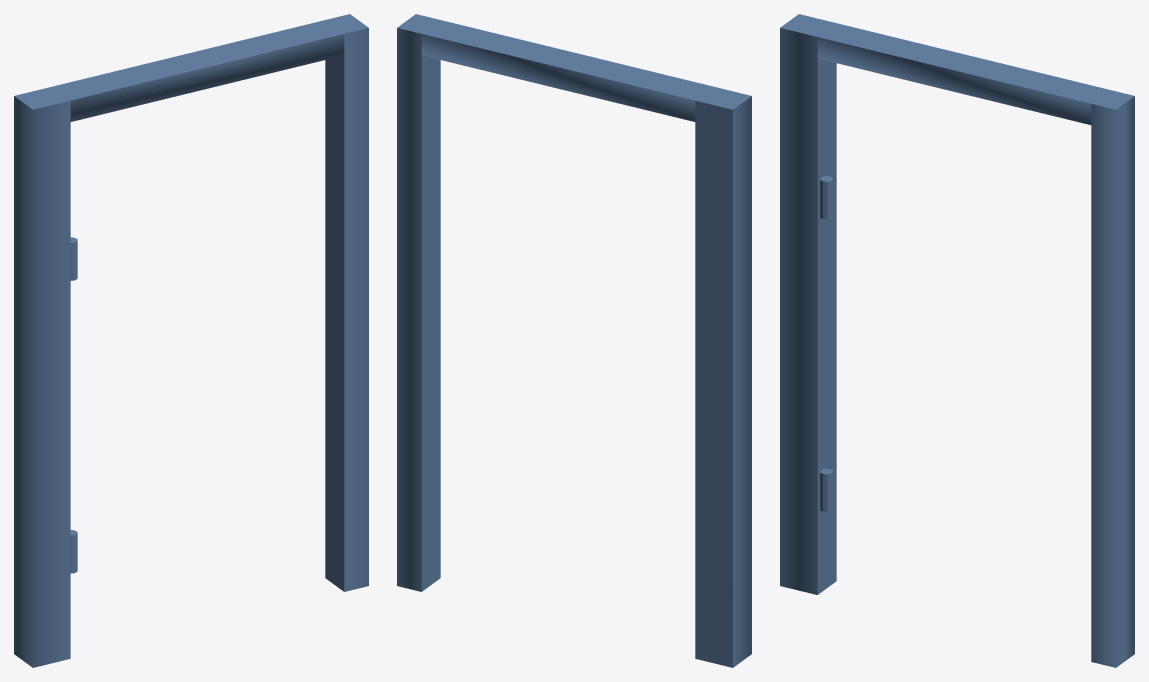
File: Door_Frame_B.fbx
3 renders of one model, left to right at view 1: azimuth 30°, elevation 25°; view 2: azimuth 150°, elevation 25°; view 3: azimuth 330°, elevation 25°, orthographic.
Visible parts, largest first — view 1: Door_Frame_B; view 2: Door_Frame_B; view 3: Door_Frame_B.
Boxes of the visible parts, x1=… form: Door_Frame_B: x1=14, y1=14, x2=368, y2=667; Door_Frame_B: x1=397, y1=14, x2=751, y2=667; Door_Frame_B: x1=780, y1=14, x2=1134, y2=667.
Size of the model in its own units: 1.23 by 1.95 by 0.1198.
1 material, 1 textured.
